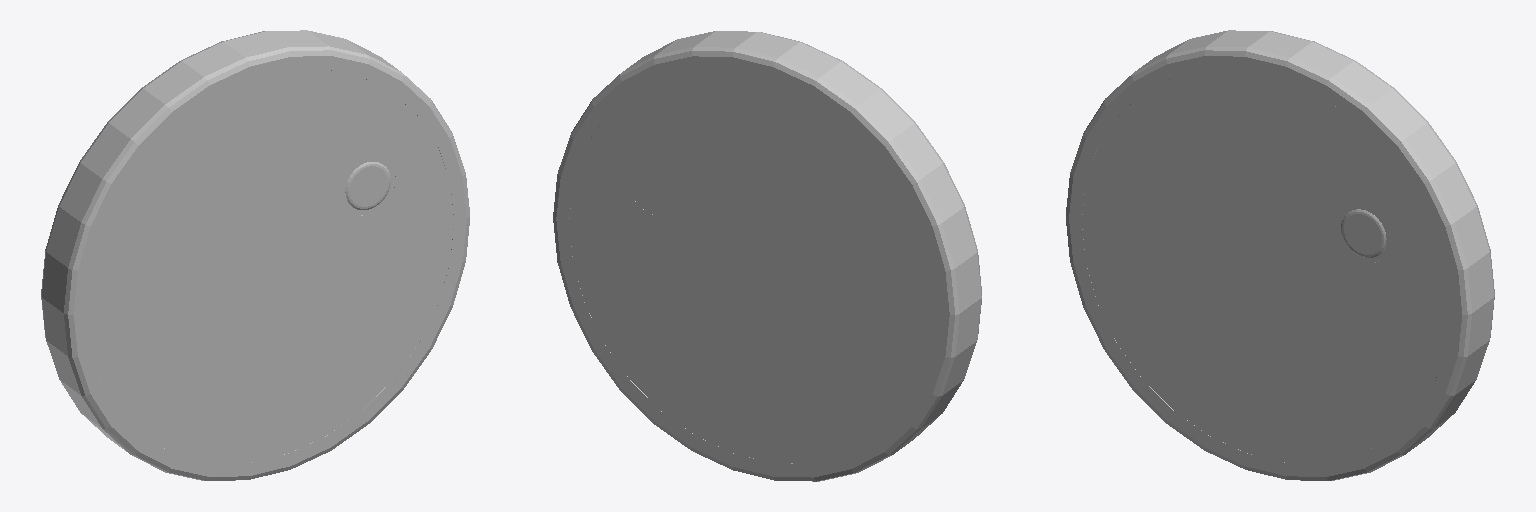
Rendered from lamp(foot).obj.
3 renders of one model, left to right at view 1: azimuth 30°, elevation 25°; view 2: azimuth 150°, elevation 25°; view 3: azimuth 330°, elevation 25°, orthographic.
Visible parts, largest first — view 1: Shape27; view 2: Shape27; view 3: Shape27.
Boxes of the visible parts, <box> form: Shape27: <box>41,30,469,480</box>; Shape27: <box>553,31,981,481</box>; Shape27: <box>1066,30,1494,480</box>.
Size of the model in its own units: 160 by 159 by 20.42.